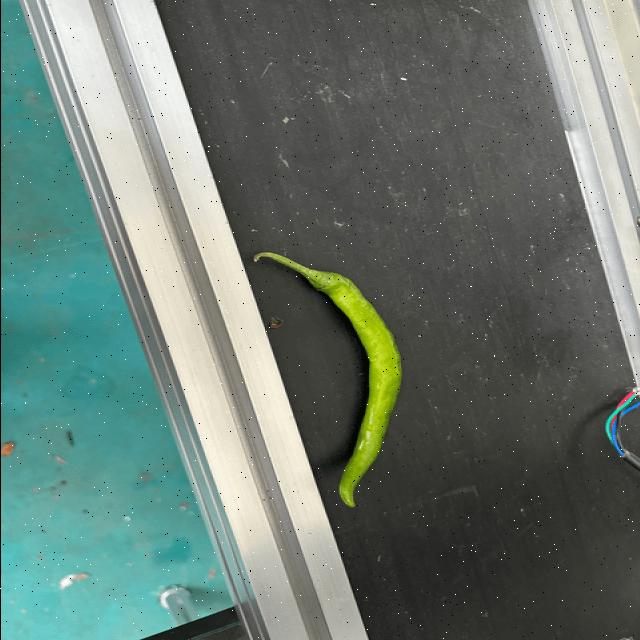chili: (304, 271, 403, 511)
